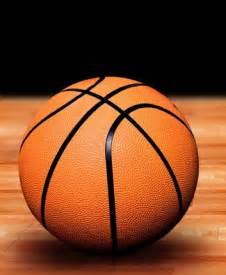basketball: (17, 76, 202, 252)
